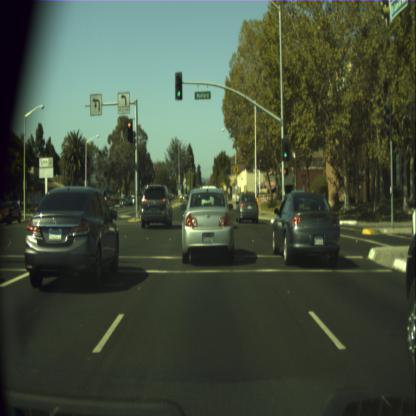Green: (175, 71, 182, 100), (282, 138, 289, 161)
RedLeft: (126, 118, 133, 142)
